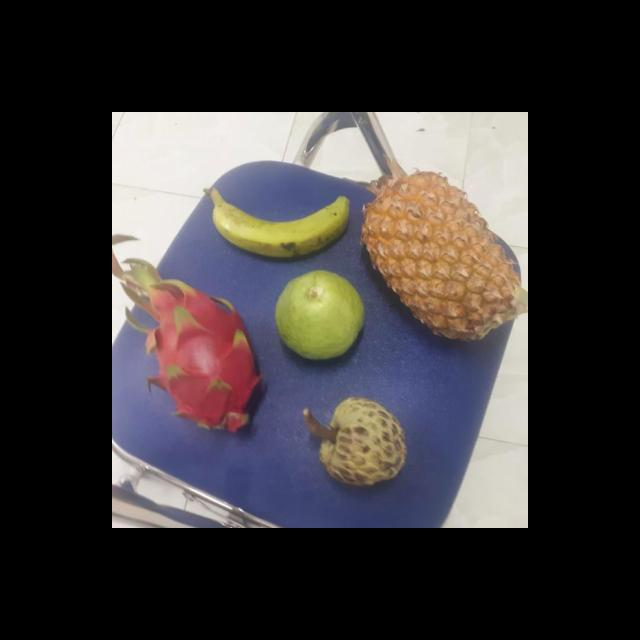Sakya fruit: (312, 398, 412, 487)
banana: (212, 188, 360, 260)
guava: (274, 272, 372, 362)
pineapple: (366, 178, 524, 346)
pitaya: (132, 286, 268, 434)
